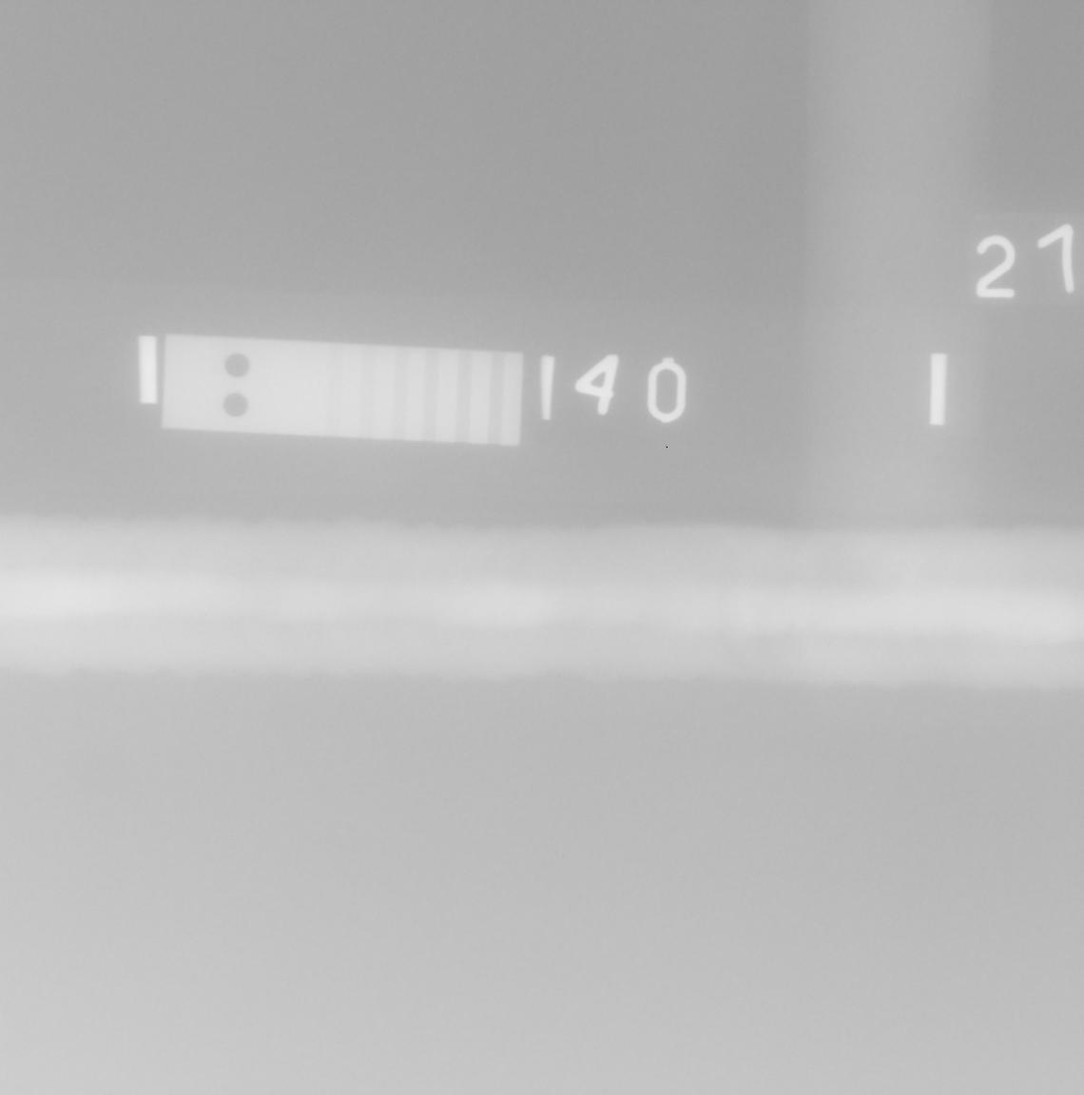Reference Standard 2: (161, 334, 524, 446)
